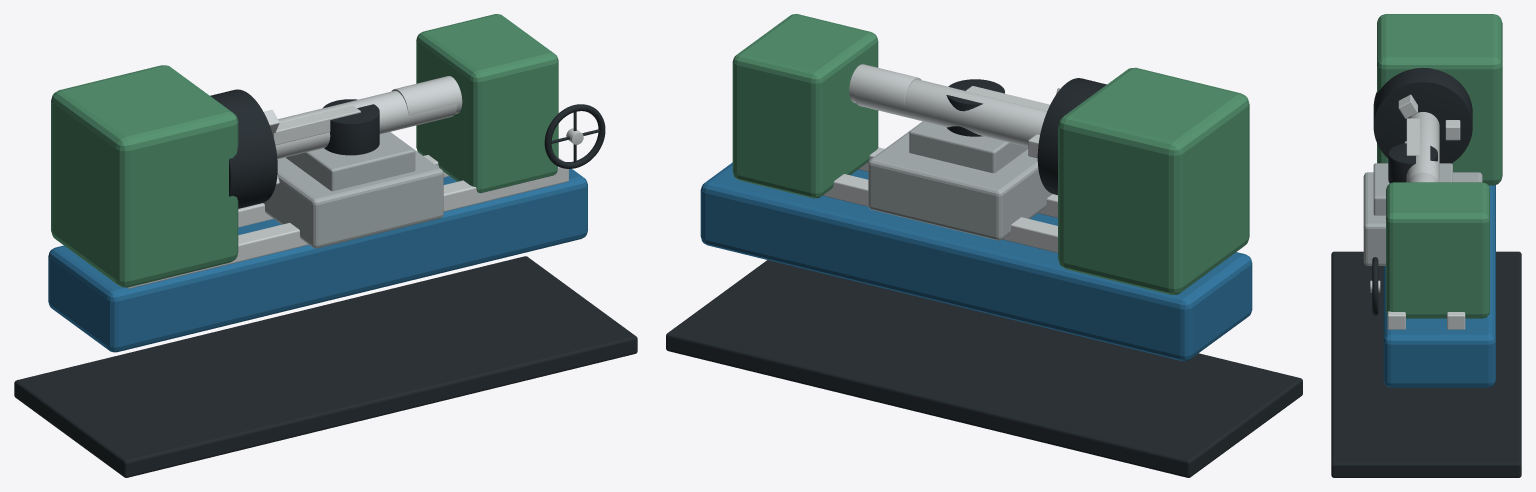
Rendered from manual_engine_lathe.glb.
The picture shows the model from 3 angles, left to right: view 1: azimuth 30°, elevation 25°; view 2: azimuth 150°, elevation 25°; view 3: azimuth 270°, elevation 25°; orthographic projection. The views are drawn at different scales.
Parts seen in each view (by area): view 1: MACHINE_BASE, HEADSTOCK, LATHE_BED, TAILSTOCK, KIN_CARRIAGE, KIN_SPINDLE_CHUCK, CROSS_SLIDE, BED_WAY_-0.18, WORKPIECE, TOOL_POST, TAILSTOCK_QUILL, CUTTING_TOOL (+2 smaller); view 2: MACHINE_BASE, LATHE_BED, HEADSTOCK, TAILSTOCK, KIN_CARRIAGE, WORKPIECE, CROSS_SLIDE, KIN_SPINDLE_CHUCK, BED_WAY_0.18, TAILSTOCK_QUILL, TOOL_POST, CUTTING_TOOL; view 3: MACHINE_BASE, TAILSTOCK, HEADSTOCK, LATHE_BED, KIN_SPINDLE_CHUCK, KIN_CARRIAGE, WORKPIECE, CROSS_SLIDE, TOOL_POST, CUTTING_TOOL, TAILSTOCK_HANDWHEEL, CHUCK_JAW_2.094 (+4 smaller).
Boxes of the visible parts, x1,y1,x2,y2 form: MACHINE_BASE: (14,256,637,477); HEADSTOCK: (51,65,238,287); LATHE_BED: (48,169,587,352); TAILSTOCK: (416,14,558,193); KIN_CARRIAGE: (263,132,443,248); KIN_SPINDLE_CHUCK: (210,89,277,208); CROSS_SLIDE: (286,132,415,191); BED_WAY_-0.18: (127,157,568,288); WORKPIECE: (275,91,456,159); TOOL_POST: (323,99,379,155); TAILSTOCK_QUILL: (391,76,462,115); CUTTING_TOOL: (272,105,360,145); MACHINE_BASE: (666,260,1302,477); LATHE_BED: (700,162,1252,361); HEADSTOCK: (1058,67,1249,294); TAILSTOCK: (732,14,878,198); KIN_CARRIAGE: (868,121,1052,240); WORKPIECE: (854,79,1046,146); CROSS_SLIDE: (909,121,1028,173); KIN_SPINDLE_CHUCK: (1037,78,1106,195); BED_WAY_0.18: (823,174,1057,252); TAILSTOCK_QUILL: (849,64,921,104); TOOL_POST: (946,79,1004,136); CUTTING_TOOL: (965,86,1049,111); MACHINE_BASE: (1331,251,1521,477); TAILSTOCK: (1386,182,1489,318); HEADSTOCK: (1377,14,1502,185); LATHE_BED: (1383,185,1495,387); KIN_SPINDLE_CHUCK: (1373,67,1472,163); KIN_CARRIAGE: (1363,172,1482,265); WORKPIECE: (1406,112,1439,182); CROSS_SLIDE: (1373,163,1452,215); TOOL_POST: (1388,143,1437,183); CUTTING_TOOL: (1406,118,1419,155); TAILSTOCK_HANDWHEEL: (1372,257,1378,315); CHUCK_JAW_2.094: (1398,94,1417,118).
Bounding box in the file's own units: 3.05 × 1.77 × 1.15.
